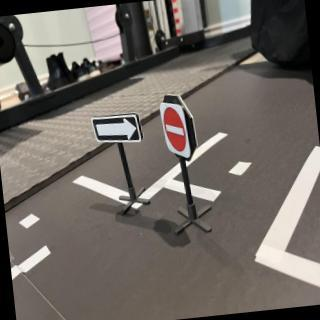sign_noentry: (159, 100, 193, 167)
sign_oneway_right: (92, 110, 148, 148)
